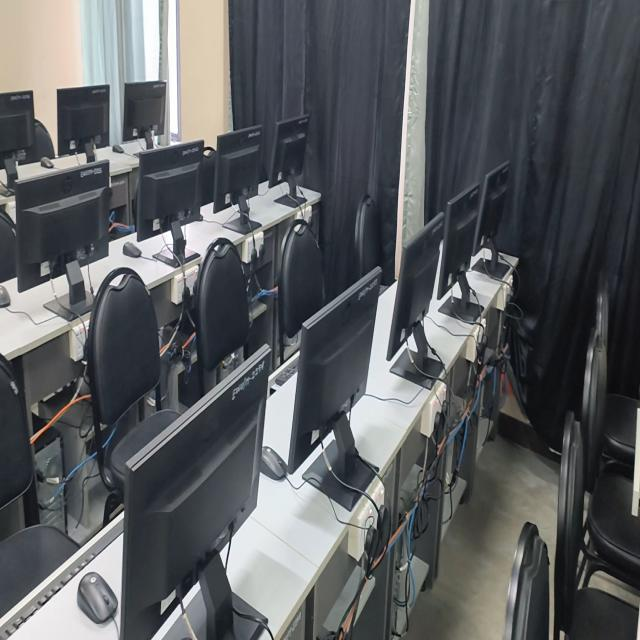Chair: (86, 267, 179, 502), (0, 354, 79, 618), (554, 420, 638, 639), (581, 290, 640, 584), (194, 238, 250, 373), (278, 220, 324, 337), (503, 522, 549, 639), (352, 194, 381, 281), (29, 119, 55, 161), (201, 148, 217, 206)
Cpu: (35, 438, 64, 529)
Keyboard: (0, 515, 123, 639)
Monitor: (120, 345, 270, 639), (288, 270, 380, 472), (15, 161, 112, 291), (387, 213, 444, 360), (136, 140, 204, 239), (437, 184, 480, 299), (213, 125, 262, 213), (57, 85, 109, 155), (267, 114, 309, 196), (473, 161, 509, 252), (123, 81, 169, 148), (0, 91, 35, 158)
Mouse: (77, 572, 118, 624), (261, 446, 287, 481), (123, 242, 141, 258), (0, 284, 11, 308), (41, 157, 54, 168), (112, 145, 124, 153)
